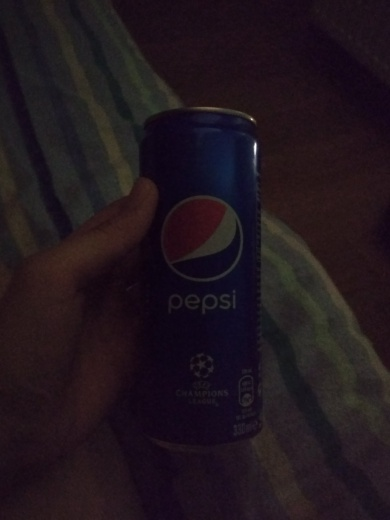pepsi: (108, 97, 265, 458)
